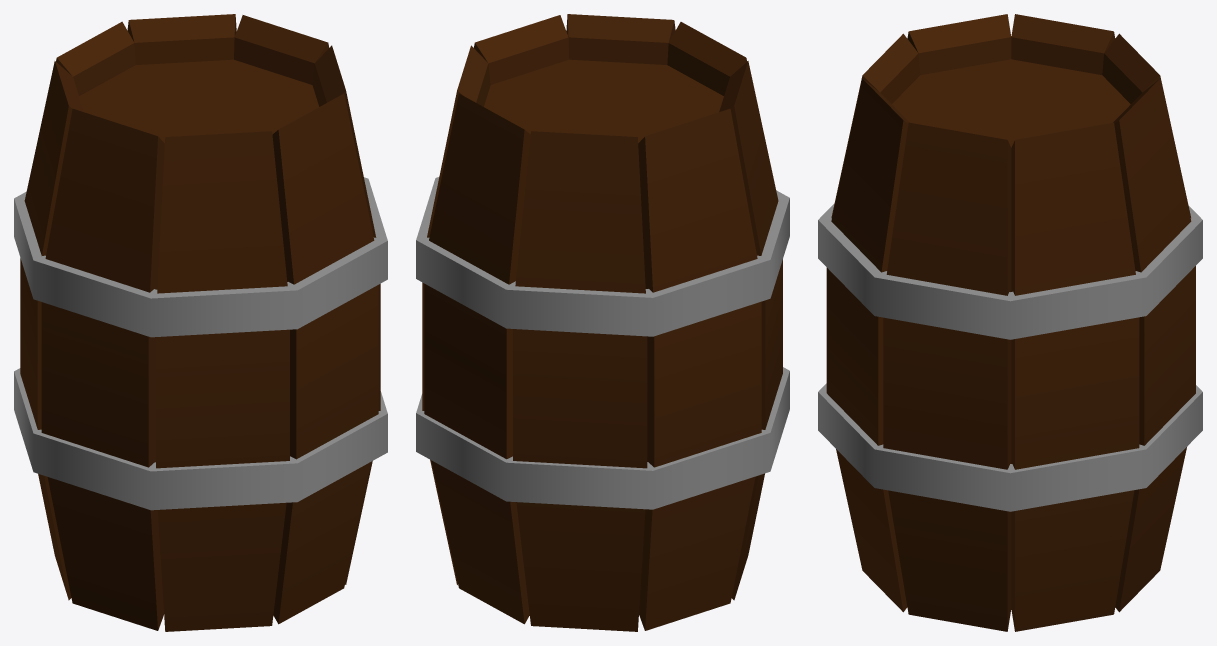
Rendered from BarrelClosed.FBX.
3 views of the same model, side by side, from view 1: azimuth 30°, elevation 25°; view 2: azimuth 150°, elevation 25°; view 3: azimuth 270°, elevation 25° (orthographic).
Parts seen in each view (by area): view 1: Cylinder001, Cylinder004, Cylinder005; view 2: Cylinder001, Cylinder004, Cylinder005; view 3: Cylinder001, Cylinder004, Cylinder005.
Boxes of the visible parts, left/top/right/bottom form: Cylinder001: left=20, top=14, right=380, bottom=631; Cylinder004: left=14, top=177, right=387, bottom=337; Cylinder005: left=14, top=368, right=387, bottom=510; Cylinder001: left=422, top=14, right=782, bottom=631; Cylinder004: left=416, top=177, right=789, bottom=336; Cylinder005: left=416, top=367, right=789, bottom=509; Cylinder001: left=826, top=14, right=1195, bottom=631; Cylinder004: left=818, top=203, right=1202, bottom=339; Cylinder005: left=818, top=383, right=1202, bottom=511.
Bounding box in the file's own units: 20.04 × 28.27 × 20.04.
